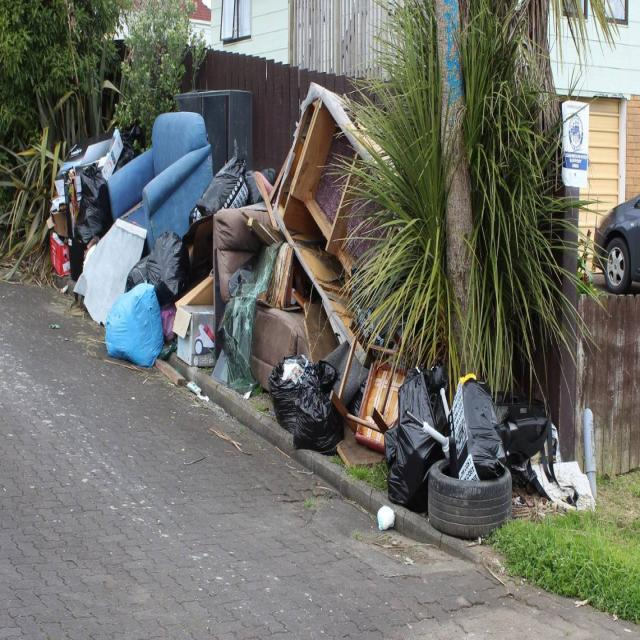dumping: (47, 42, 592, 540)
